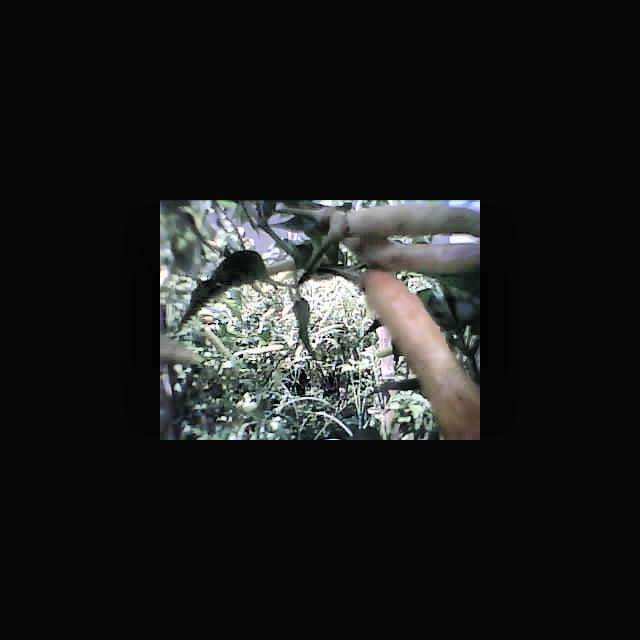Cabai: (365, 270, 480, 440)
